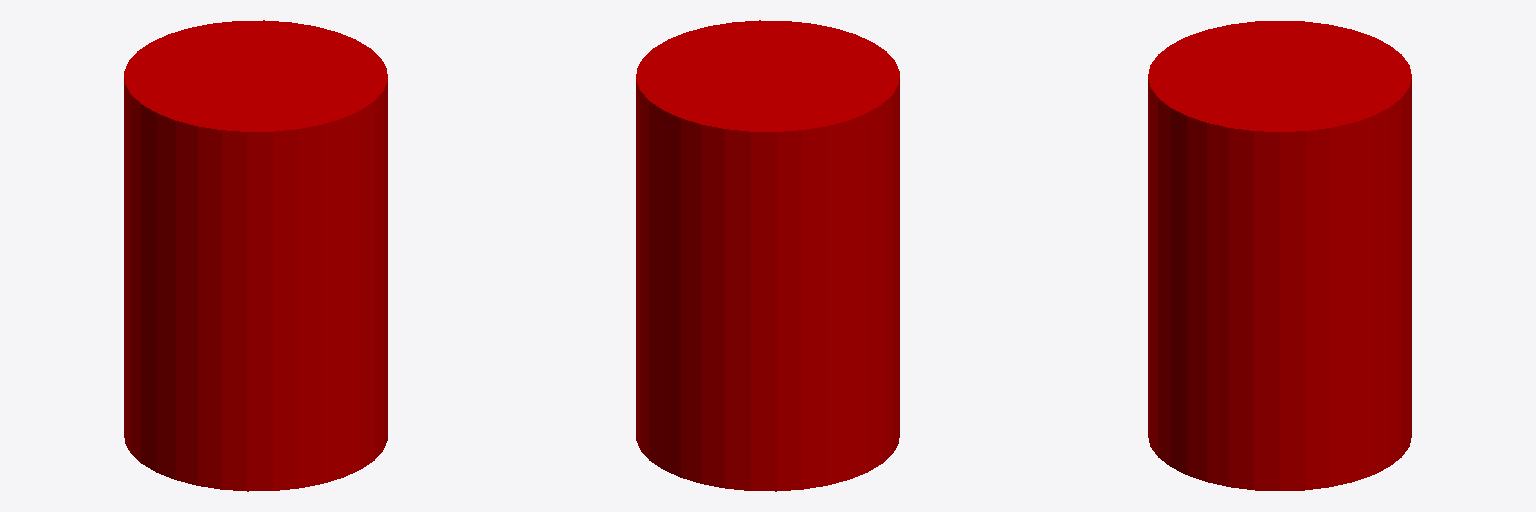
robot.urdf — scitosA5:
<?xml version="1.0" ?>
<robot name="scitosA5" xmlns:controller="http://playerstage.sourceforge.net/gazebo/xmlschema/#controller" xmlns:interface="http://playerstage.sourceforge.net/gazebo/xmlschema/#interface" xmlns:joint="http://playerstage.sourceforge.net/gazebo/xmlschema/#slider" xmlns:sensor="http://playerstage.sourceforge.net/gazebo/xmlschema/#sensor" xmlns:xacro="http://ros.org/wiki/xacro">
  <material name="Red">
    <color rgba="0.8 0.0 0.0 1.0"/>
  </material>
  <link name="base_link">
    <inertial>
      <mass value="116.0"/>
      <origin xyz="-0.061 0.0 0.1465"/>
      <inertia ixx="5.652232699207" ixy="-0.009719934438" ixz="1.293988226423" iyy="5.669473158652" iyz="-0.007379583694" izz="3.683196351726"/>
    </inertial>
    <visual>
      <origin rpy="0 0 0" xyz="0 0 0"/>
      <geometry>
        <cylinder length="0.6" radius="0.2"/>
        <!-- <mesh filename="package://strands_morse_2dnav/scitosA5.dae"/> -->
      </geometry>
      <material name="Red"/>
    </visual>
    <collision>
      <origin rpy="0 0 0" xyz="0 0 0"/>
      <geometry>
        <cylinder length="0.6" radius="0.2"/>
        <!-- <mesh filename="package://strands_morse_2dnav/scitosA5.stl"/> -->
      </geometry>
    </collision>
  </link>

  <link name="base_footprint">
    <inertial>
      <mass value="1.0"/>
      <origin xyz="0 0 0"/>
      <inertia ixx="0.01" ixy="0.0" ixz="0.0" iyy="0.01" iyz="0.0" izz="0.01"/>
    </inertial>
    <visual>
      <origin rpy="0 0 0" xyz="0 0 0"/>
      <geometry>
        <box size="0.01 0.01 0.01"/>
      </geometry>
      <material name="Red"/>
    </visual>
    <collision>
             surface of the collision box matches the top surface of the PR2 base -->
      <origin rpy="0 0 0" xyz="0 0 0.071"/>
      <geometry>
        <box size="0.001 0.001 0.001"/>
      </geometry>
    </collision>
  </link>
  <joint name="base_footprint_joint" type="fixed">
    <origin rpy="0 0 0" xyz="0 0 0.051"/>
    <child link="base_link"/>
    <parent link="base_footprint"/>
  </joint>
  <!-- <link name="base_bellow_link"> -->
  <!--   <inertial> -->
  <!--     <mass value="1.0"/> -->
  <!--     <origin xyz="0 0 0"/> -->
  <!--     <inertia ixx="0.01" ixy="0.0" ixz="0.0" iyy="0.01" iyz="0.0" izz="0.01"/> -->
  <!--   </inertial> -->
  <!--   <visual> -->
  <!--     <origin rpy="0 0 0" xyz="0 0 0"/> -->
  <!--     <geometry> -->
  <!--       <box size="0.05 0.37 0.3"/> -->
  <!--     </geometry> -->
  <!--     <material name="Black"/> -->
  <!--   </visual> -->
  <!--   <collision> -->
  <!--     <origin rpy="0 0 0" xyz="0 0 0"/> -->
  <!--     <geometry> -->
  <!--       <box size="0.05 0.37 0.3"/> -->
  <!--     </geometry> -->
  <!--   </collision> -->
  <!-- </link> -->
  <!-- <joint name="base_bellow_joint" type="fixed"> -->
  <!--   <origin rpy="0 0 0" xyz="-0.29 0 0.8"/> -->
  <!--   <parent link="base_link"/> -->
  <!--   <child link="base_bellow_link"/> -->
  <!-- </joint> -->
  <joint name="base_laser_joint" type="fixed">
    <axis xyz="0 1 0"/>
    <origin rpy="0 0 0" xyz="0.275 0.0 0.252"/>
    <parent link="base_link"/>
    <child link="base_laser_link"/>
  </joint>
  <link name="base_laser_link" type="laser">
    <inertial>
      <mass value="0.001"/>
      <origin rpy="0 0 0" xyz="0 0 0"/>
      <inertia ixx="0.0001" ixy="0" ixz="0" iyy="0.000001" iyz="0" izz="0.0001"/>
    </inertial>
  </link>
  <!-- <gazebo reference="base_laser_link"> -->
  <!--   <sensor name="base_laser" type="ray"> -->
  <!--     <always_on>true</always_on> -->
  <!--     <update_rate>20</update_rate> -->
  <!--     <pose>0 0 0 0 0 0</pose> -->
  <!--     <visualize>false</visualize> -->
  <!--     <ray> -->
  <!--       <scan> -->
  <!--         <horizontal> -->
  <!--           <samples>640</samples> -->
  <!--           <resolution>1</resolution> -->
  <!--           <min_angle>-2.2689</min_angle> -->
  <!--           <max_angle>2.2689</max_angle> -->
  <!--         </horizontal> -->
  <!--       </scan> -->
  <!--       <range> -->
  <!--         <min>0.08</min> -->
  <!--         <max>10.0</max> -->
  <!--         <resolution>0.01</resolution> -->
  <!--       </range> -->
  <!--     </ray> -->
  <!--     <plugin filename="libgazebo_ros_laser.so" name="gazebo_ros_base_laser_controller"> -->
  <!--       <gaussianNoise>0.005</gaussianNoise> -->
  <!--       <alwaysOn>true</alwaysOn> -->
  <!--       <updateRate>20</updateRate> -->
  <!--       <topicName>base_scan</topicName> -->
  <!--       <frameName>base_laser_link</frameName> -->
  <!--     </plugin> -->
  <!--   </sensor> -->
  <!-- </gazebo> -->

</robot>

--- What the picture shows (computed from the rendered views, not written in the file) ---
The picture shows the robot from 3 angles, left to right: view 1: azimuth 30°, elevation 25°; view 2: azimuth 150°, elevation 25°; view 3: azimuth 270°, elevation 25°; orthographic projection.
Model scitosA5 with 3 links and 2 joints (2 fixed), rooted at base_footprint, posed all joints at 0.
Links seen in each view (by area): view 1: base_link; view 2: base_link; view 3: base_link.
Boxes of the visible links, x1,y1,x2,y2 form: base_link: (124,20,387,491); base_link: (636,20,899,491); base_link: (1148,21,1411,490).
Size in the robot's own frame: 0.4 by 0.4 by 0.6 metres.
Geometry: primitives only (box / cylinder / sphere), no mesh files.
